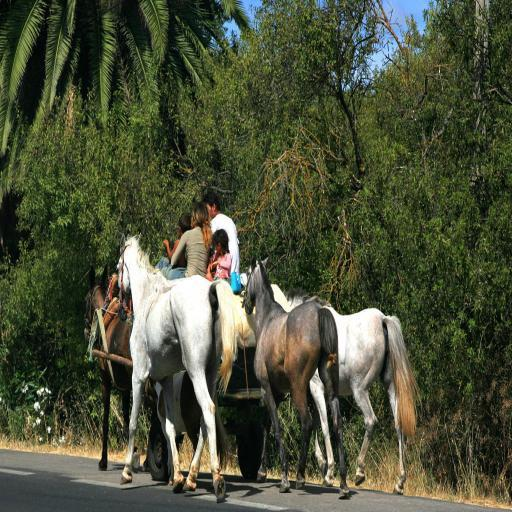horse: (82, 232, 426, 506)
